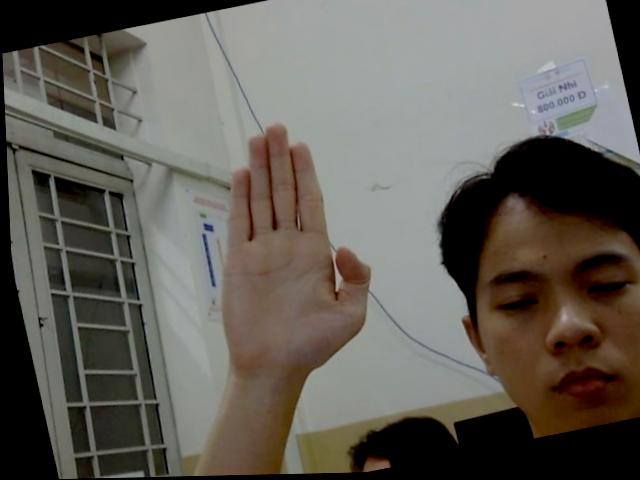B: (176, 107, 395, 384)
